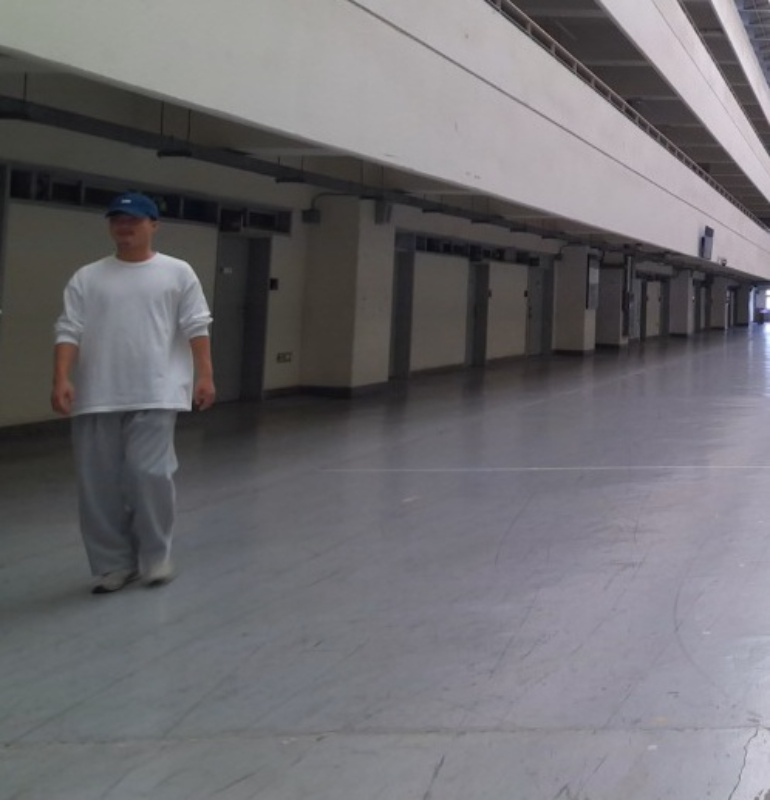person: (56, 201, 219, 593)
